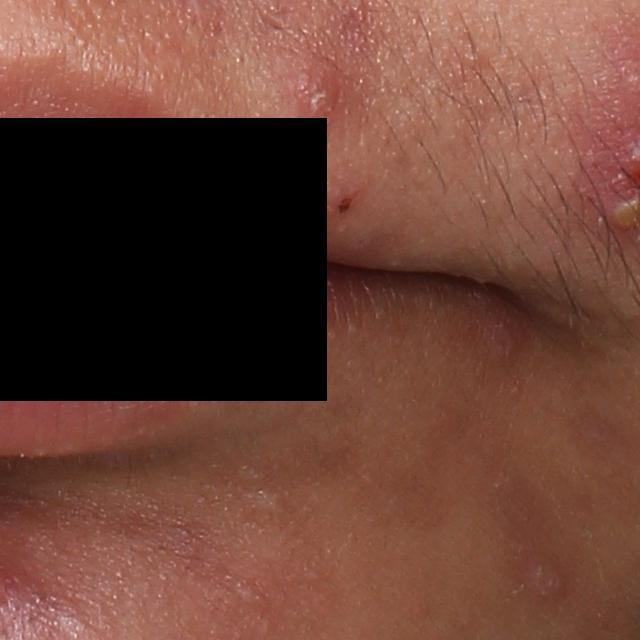papule: (287, 51, 347, 117), (520, 555, 573, 599)
